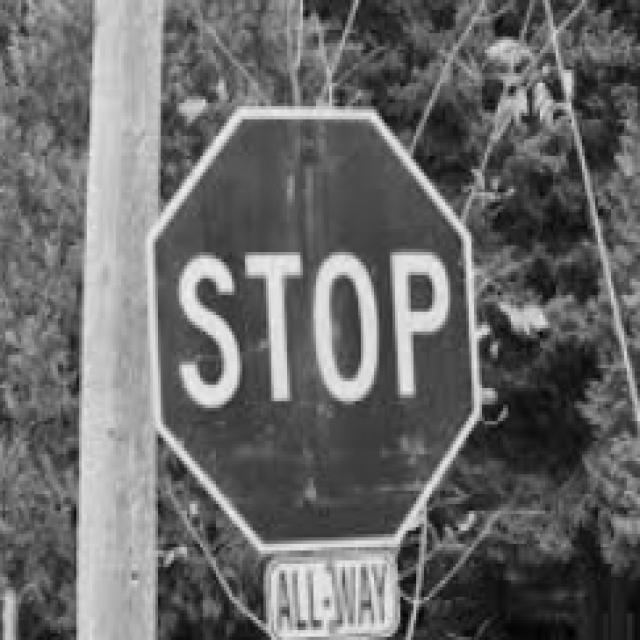Stop-signs: (150, 111, 482, 554)
